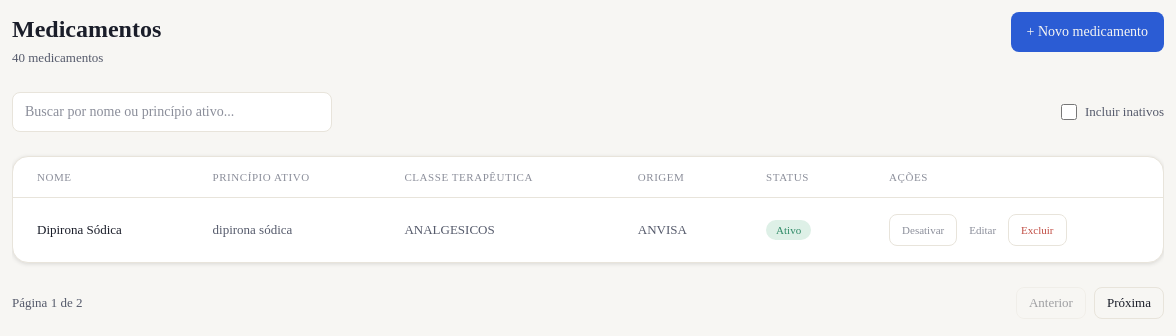
Test case: MedicationList (integration) › paginates to the next page
The image size is (1176, 336).
Expected: the text with test id "medication-list-page-info" reads "Página 1 de 2", [12, 293, 82, 313]
Expected: the button with test id "medication-list-prev-page" is disabled, [1016, 287, 1086, 319]
Click the button with test id "medication-list-next-page" at coordinates (1129, 303), box [1094, 287, 1164, 319]
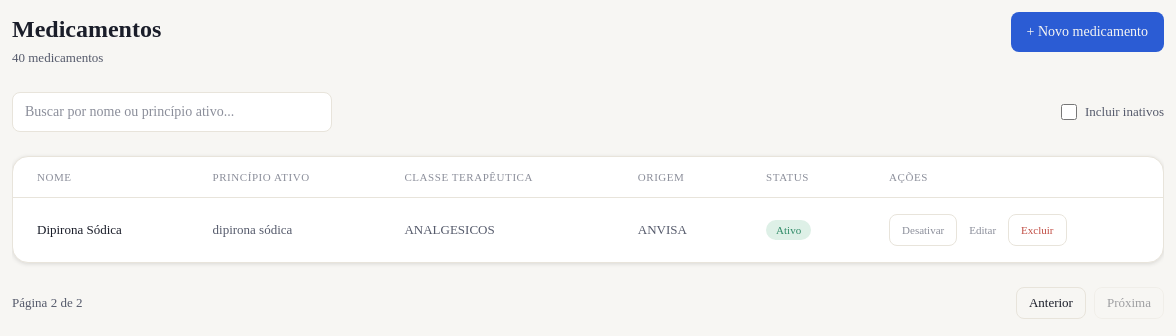
Now the text with test id "medication-list-page-info" reads "Página 2 de 2", box [12, 293, 82, 313]
Click the button with test id "medication-list-prev-page" at coordinates (1051, 303), box [1016, 287, 1086, 319]
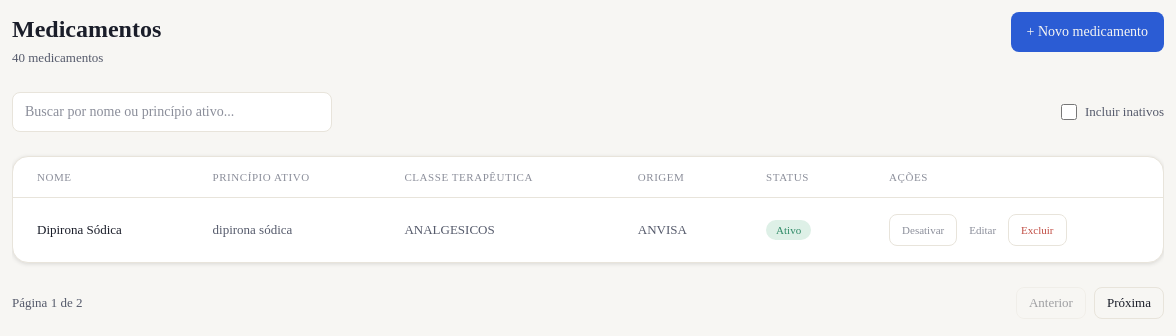
Now the text with test id "medication-list-page-info" reads "Página 1 de 2", box [12, 293, 82, 313]
